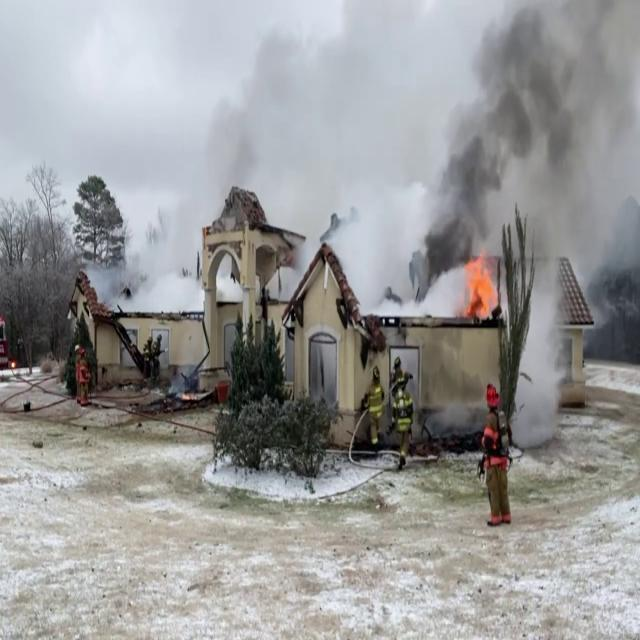Fire: (461, 251, 498, 321)
Smoke: (418, 1, 640, 282), (111, 194, 199, 312)
